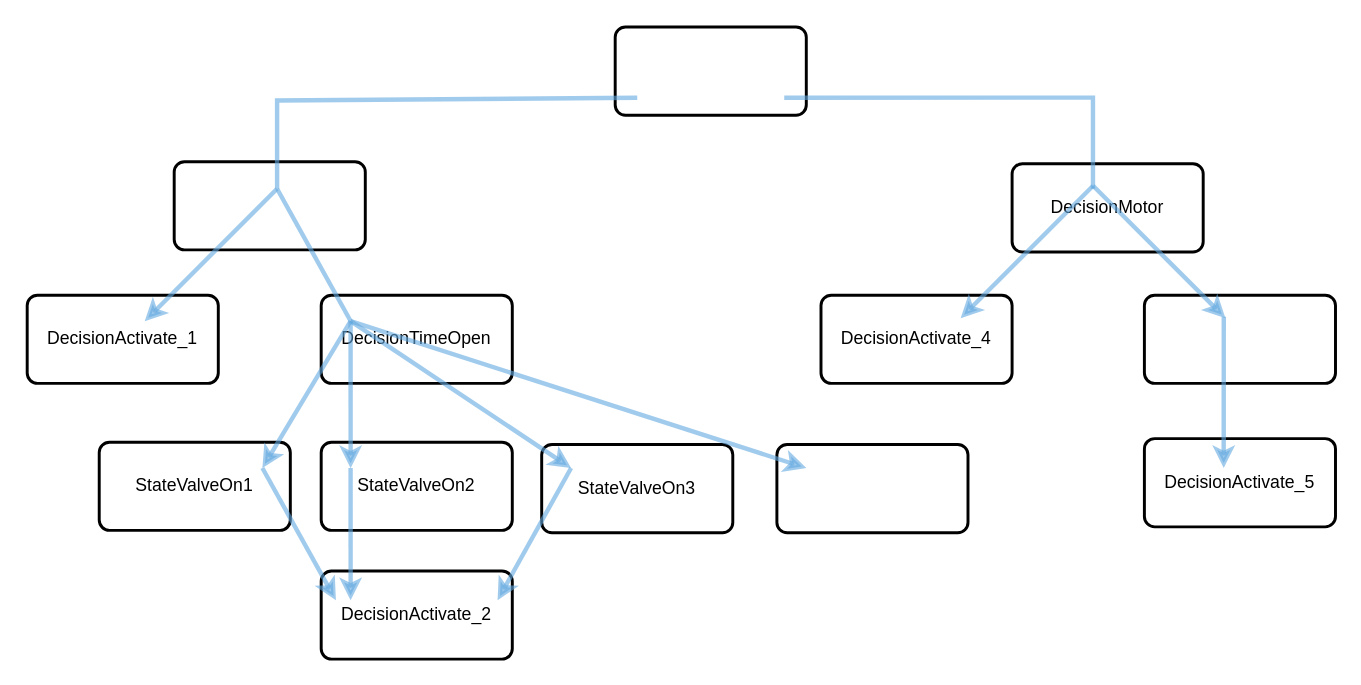
Some shapes in this 1361 by 685 pixel diagram are drawn without their labels. Here are the shapes that lost their labels. From the top down, the centre of each, then its label:
At [710,70]: "DecisionActivate_0".
At [269,205]: "DecisionValve".
At [1239,338]: "StateMotorOn".
At [872,487]: "DecisionActivate_3".
